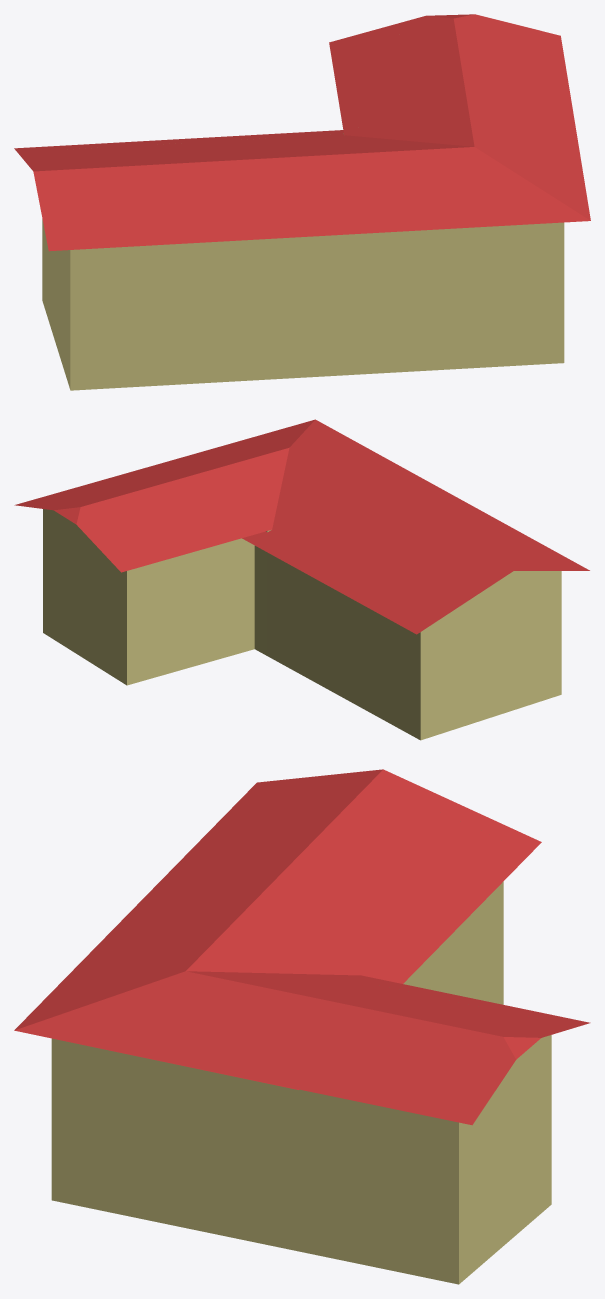
The picture shows the model from 3 angles, top to bottom: view 1: azimuth 30°, elevation 25°; view 2: azimuth 150°, elevation 25°; view 3: azimuth 270°, elevation 25°; orthographic projection. The views are drawn at different scales.
Size of the model in its own units: 27.68 by 19.69 by 7.95.
